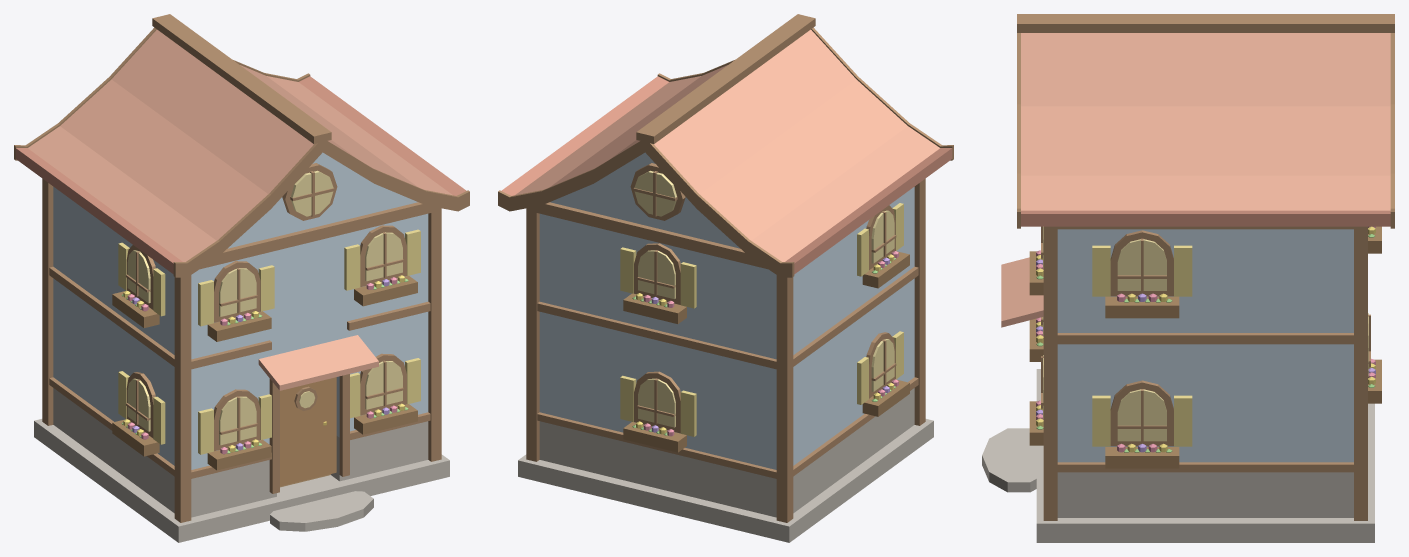
The model's file is townhouse_sky.glb.
The picture shows the model from 3 angles, left to right: view 1: azimuth 30°, elevation 25°; view 2: azimuth 150°, elevation 25°; view 3: azimuth 270°, elevation 25°; orthographic projection. The views are drawn at different scales.
Parts seen in each view (by area): view 1: Player; view 2: Player; view 3: Player.
Boxes of the visible parts, x1,y1,x2,y2 form: Player: (14,14,469,542); Player: (498,14,953,542); Player: (982,14,1394,542).
Bounding box in the file's own units: 5.64 × 6.99 × 5.85.
